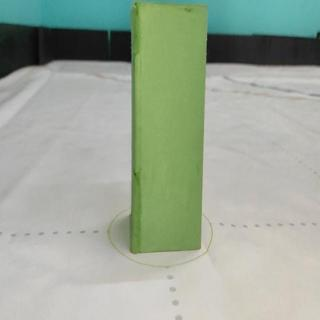greenbox: (129, 0, 206, 252)
